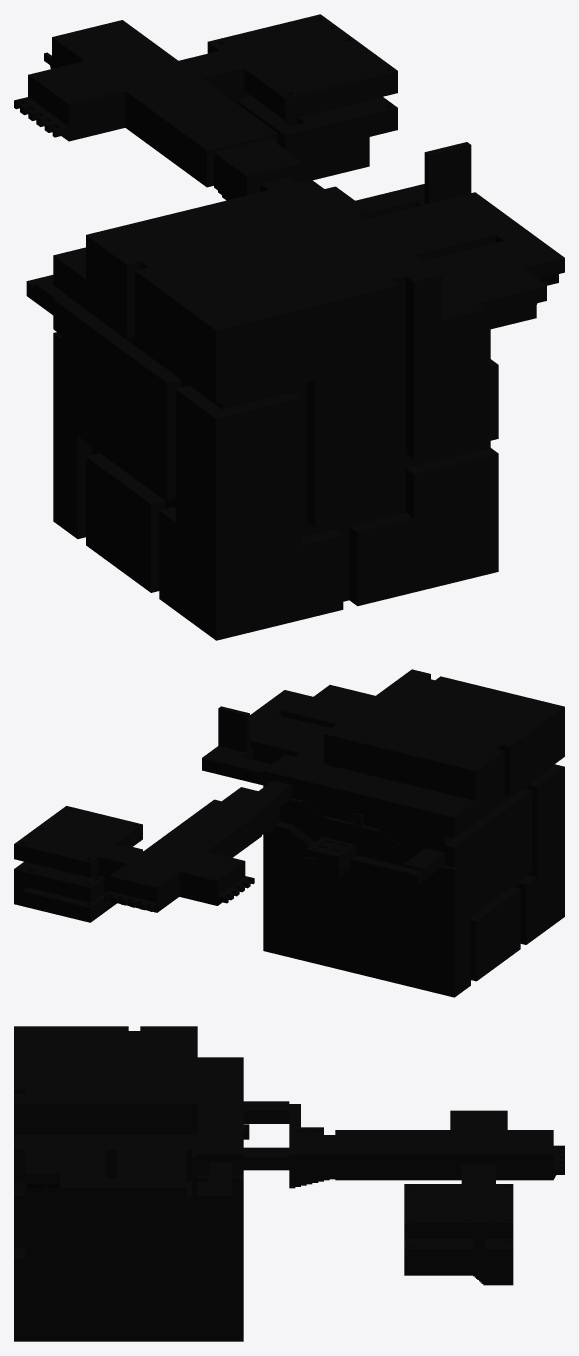
The model's file is dangomap_expanded_bake.obj.
3 renders of one model, top to bottom at view 1: azimuth 30°, elevation 25°; view 2: azimuth 150°, elevation 25°; view 3: azimuth 270°, elevation 25°, orthographic. The views are drawn at different scales.
Bounding box in the file's own units: 13000 × 8400 × 19200.
